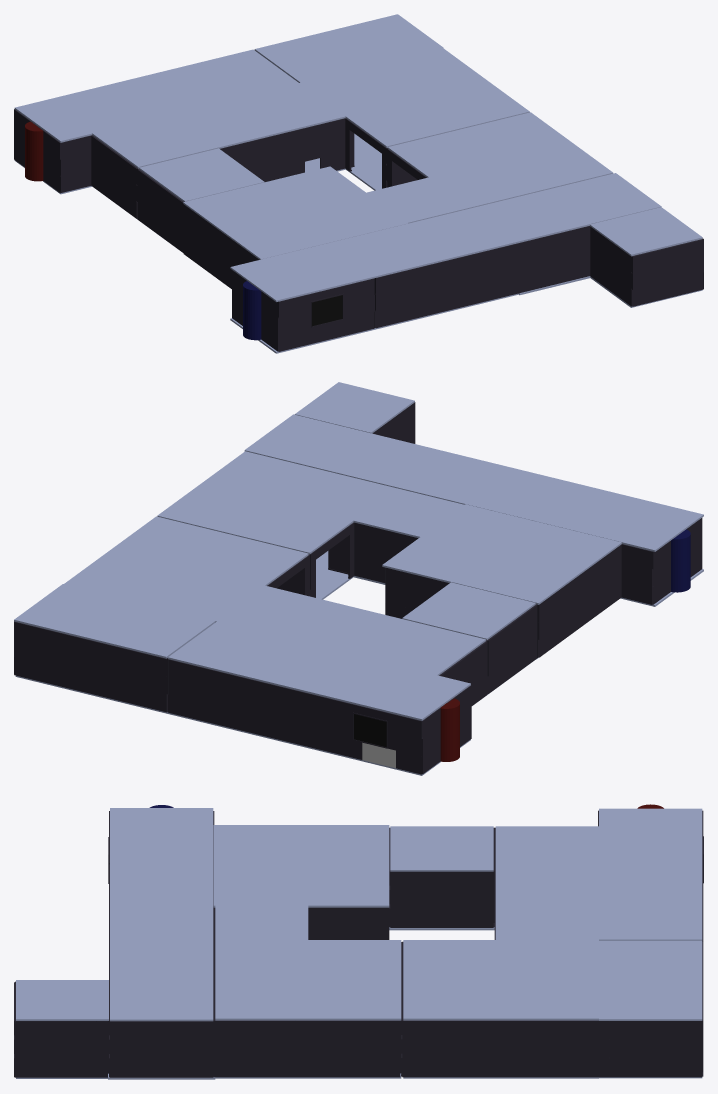
Rendered from Thallasic.obj.
3 views of the same model, one above another, from view 1: azimuth 30°, elevation 25°; view 2: azimuth 150°, elevation 25°; view 3: azimuth 270°, elevation 25° (orthographic). The views are drawn at different scales.
Parts seen in each view (by area): view 1: Floor.031, Floor.007, Floor.033, Floor.005, Floor.003, Floor.029, Floor.011, Floor.013, Floor.019, Floor.027, Floor.023, Floor.001 (+13 smaller); view 2: Floor.005, Floor.003, Floor.033, Floor.031, Floor.007, Floor.029, Floor.019, Floor.011, Floor.013, Floor.027, Floor.023, Floor.001 (+12 smaller); view 3: Floor.005, Floor.033, Floor.003, Floor.007, Floor.031, Floor.029, Floor.019, Floor.011, Floor.013, Floor.027, Floor.023, Floor.001 (+31 smaller).
Boxes of the visible parts, <box> form: Floor.031: <box>331,207,518,277</box>; Floor.007: <box>220,67,407,137</box>; Floor.033: <box>474,173,661,242</box>; Floor.005: <box>254,14,443,82</box>; Floor.003: <box>110,49,298,117</box>; Floor.029: <box>183,183,340,259</box>; Floor.011: <box>345,81,529,147</box>; Floor.013: <box>92,102,265,168</box>; Floor.019: <box>387,112,571,177</box>; Floor.027: <box>263,166,407,239</box>; Floor.023: <box>230,242,376,301</box>; Floor.001: <box>14,84,155,142</box>; Floor.005: <box>14,584,215,658</box>; Floor.003: <box>168,621,368,695</box>; Floor.033: <box>244,414,445,487</box>; Floor.031: <box>396,451,596,524</box>; Floor.007: <box>149,569,349,641</box>; Floor.029: <box>454,521,621,604</box>; Floor.019: <box>157,483,353,554</box>; Floor.011: <box>112,516,308,585</box>; Floor.013: <box>302,606,485,675</box>; Floor.027: <box>382,504,536,583</box>; Floor.023: <box>548,488,703,551</box>; Floor.001: <box>320,659,470,720</box>; Floor.005: <box>599,940,702,1020</box>; Floor.033: <box>110,941,213,1021</box>; Floor.003: <box>599,861,702,940</box>; Floor.007: <box>495,896,598,974</box>; Floor.031: <box>110,863,213,941</box>; Floor.029: <box>213,825,389,868</box>; Floor.019: <box>308,940,401,1020</box>; Floor.011: <box>403,940,496,1020</box>; Floor.013: <box>495,826,598,895</box>; Floor.027: <box>213,868,389,907</box>; Floor.023: <box>110,808,213,862</box>; Floor.001: <box>599,808,702,860</box>.
Bounding box in the file's own units: 49.7 × 6.4 × 66.79.
